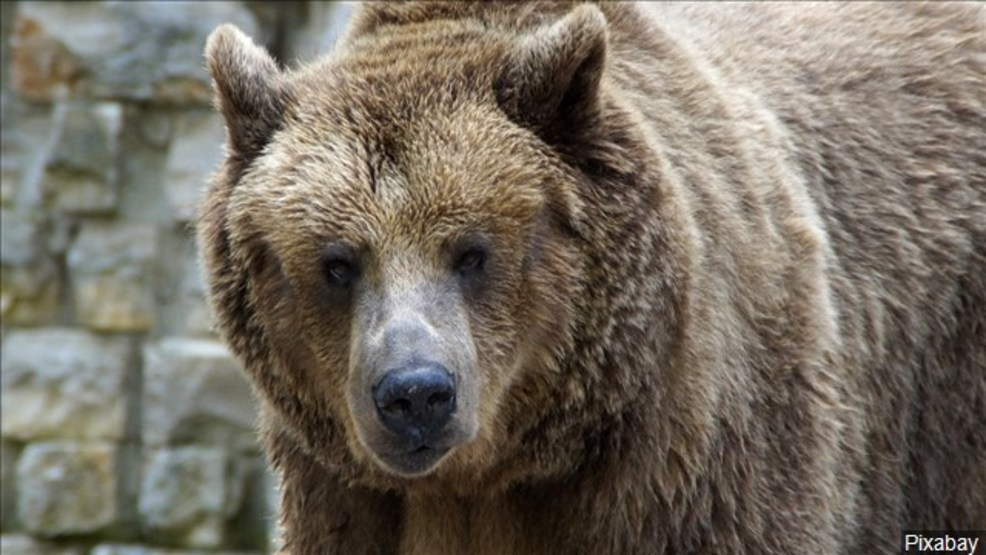bear: (176, 23, 683, 481)
